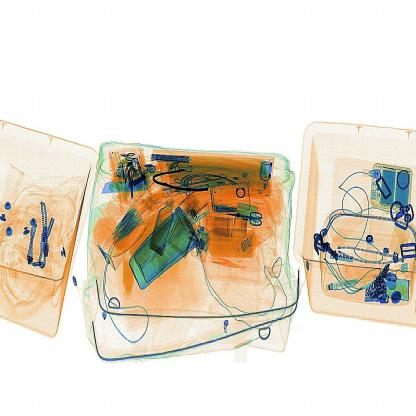pliers: (94, 178, 157, 196)
